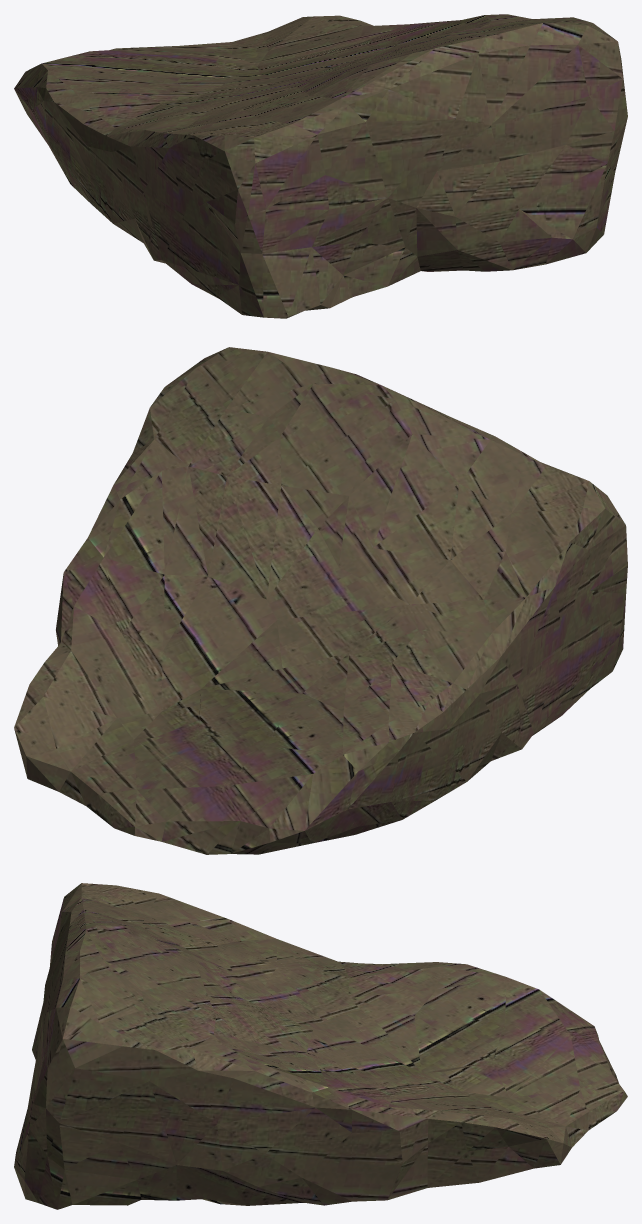
File: GreyStone.fbx
3 renders of one model, top to bottom at view 1: azimuth 30°, elevation 25°; view 2: azimuth 150°, elevation 25°; view 3: azimuth 270°, elevation 25°, orthographic. The views are drawn at different scales.
Parts seen in each view (by area): view 1: skp29C1; view 2: skp29C1; view 3: skp29C1.
Part boxes in pixels (x1=…): skp29C1: x1=14, y1=14, x2=627, y2=318; skp29C1: x1=14, y1=347, x2=627, y2=854; skp29C1: x1=14, y1=883, x2=627, y2=1209.
Size of the model in its own units: 639 by 347 by 872.
